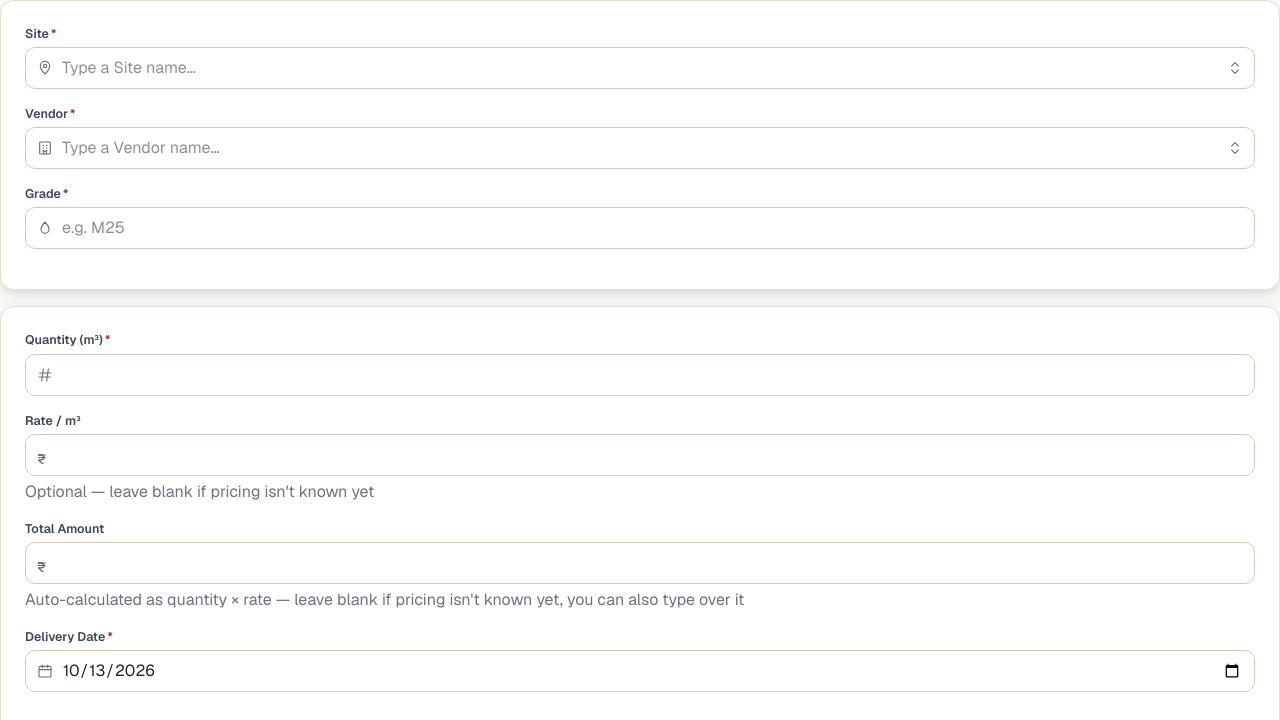
Scenario: RmcForm › auto-computes Total Amount = quantity × rate as either changes
This screenshot has width=1280, height=720.
Type "42" into the number field labelled "Quantity (m³)" at (640, 374), box [25,354,1255,396]
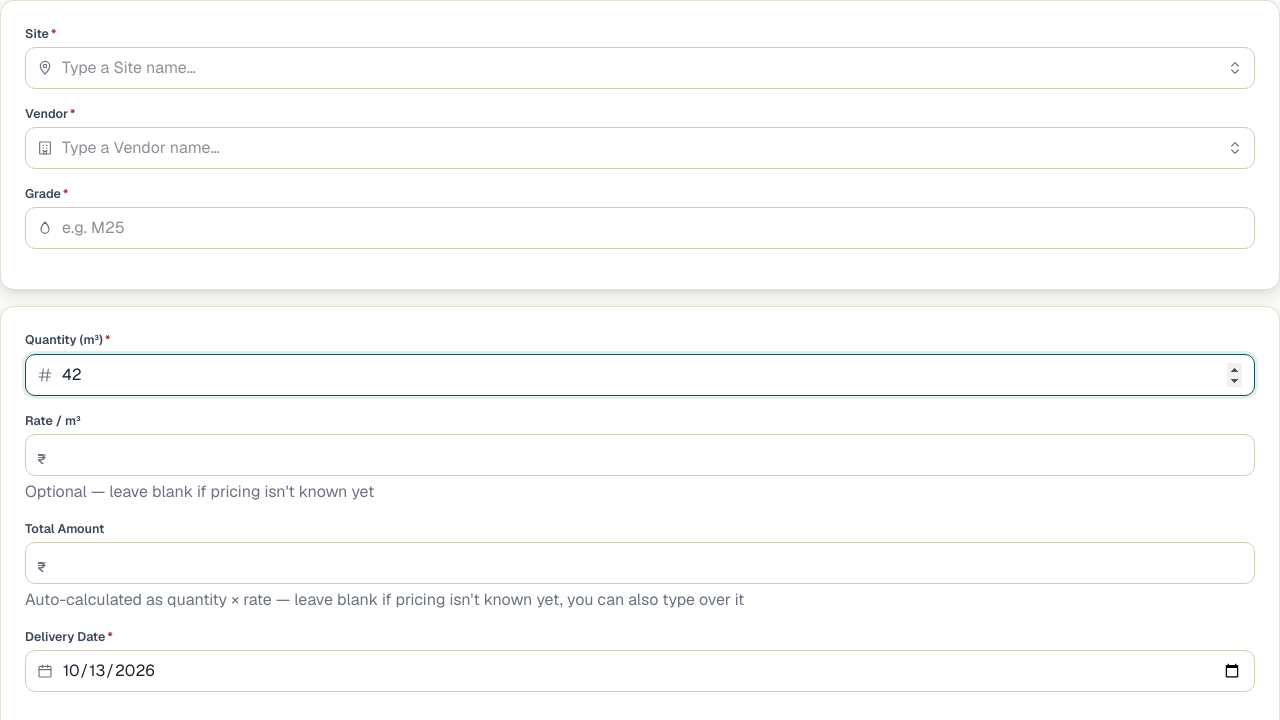
Type "6200" into the number field labelled "Rate / m³" at (640, 455), box [25,434,1255,476]
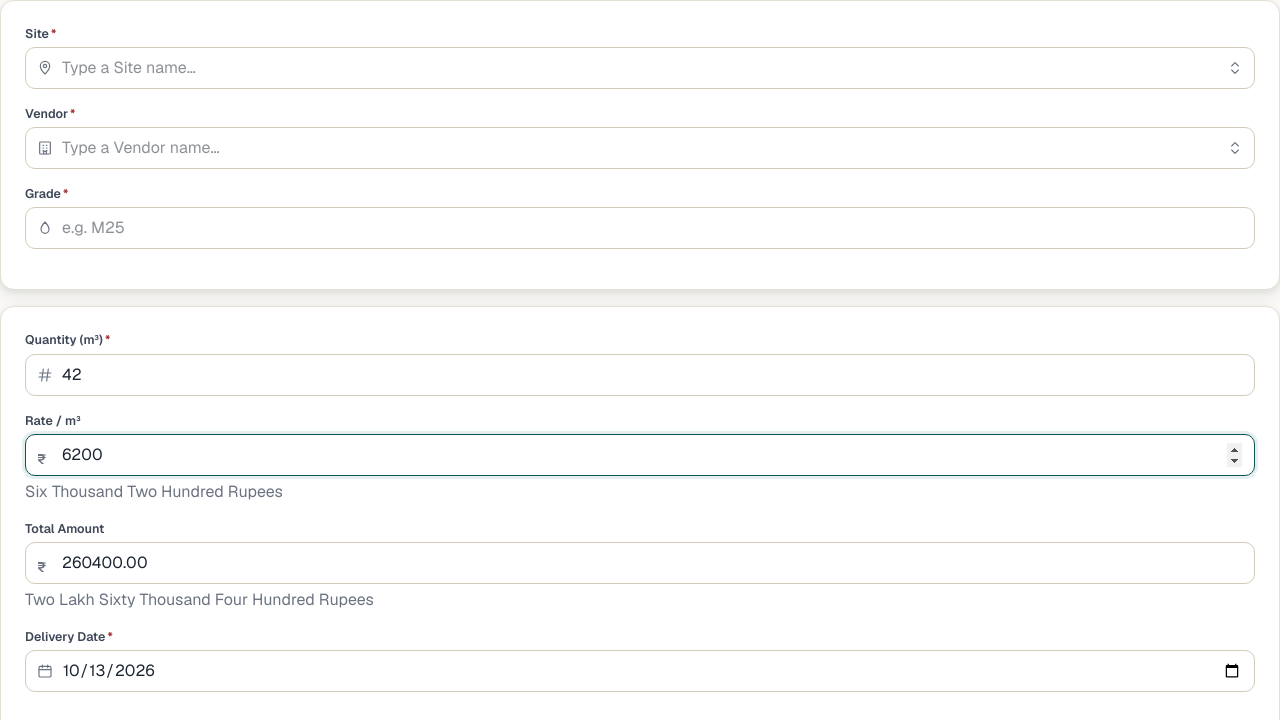
Expected: the number field labelled "Total Amount" holds "260400", [25,542,1255,584]
